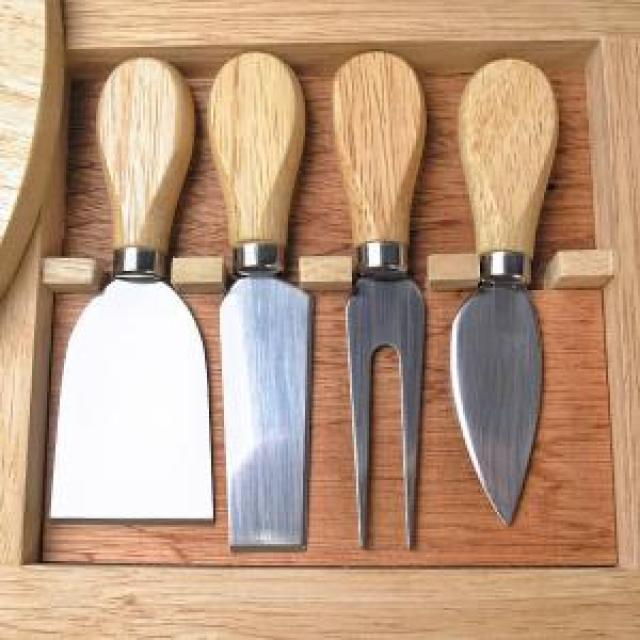knife: (198, 49, 320, 554), (450, 54, 577, 534)
